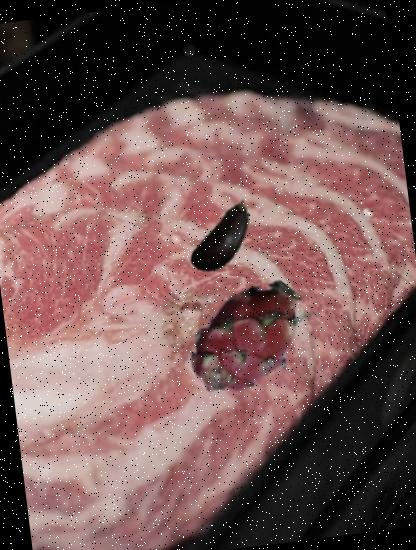Eggplant: (178, 192, 273, 288)
Pitahaya: (174, 264, 322, 412)
